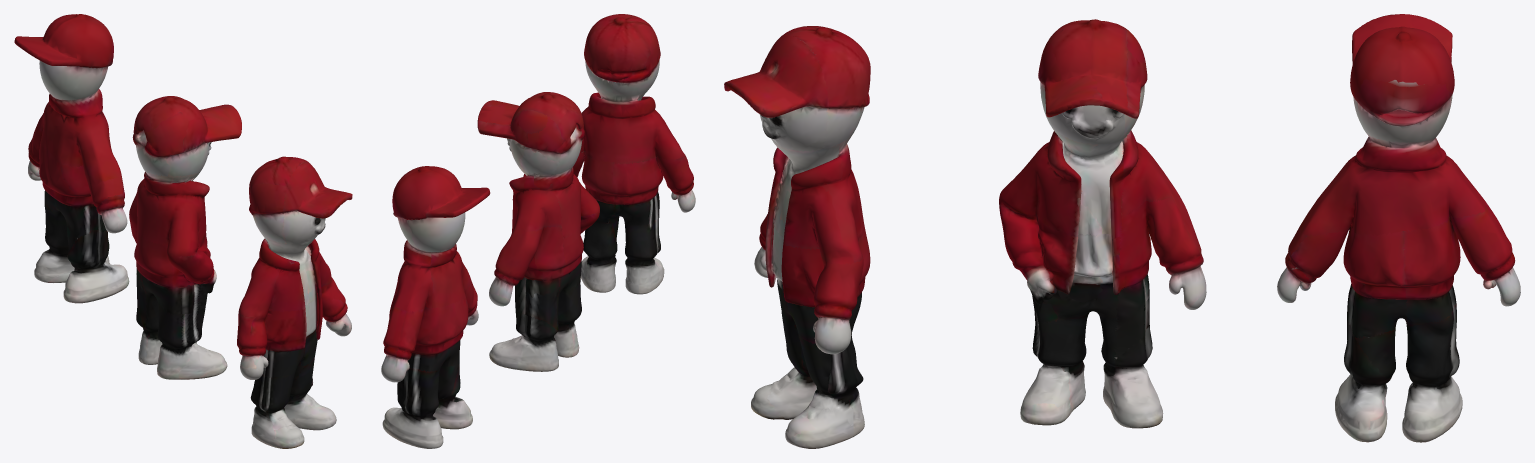
Rendered from audience-03.glb.
3 views of the same model, side by side, from view 1: azimuth 30°, elevation 25°; view 2: azimuth 150°, elevation 25°; view 3: azimuth 270°, elevation 25° (orthographic). The views are drawn at different scales.
Visible parts, largest first — view 1: tripo_node_8a8b0790-8af1-4ddb-96f0-1e316ed52873; view 2: tripo_node_8a8b0790-8af1-4ddb-96f0-1e316ed52873; view 3: tripo_node_8a8b0790-8af1-4ddb-96f0-1e316ed52873.
Part boxes in pixels (left/top/right/bottom): tripo_node_8a8b0790-8af1-4ddb-96f0-1e316ed52873: left=14, top=14, right=352, bottom=448; tripo_node_8a8b0790-8af1-4ddb-96f0-1e316ed52873: left=381, top=14, right=695, bottom=448; tripo_node_8a8b0790-8af1-4ddb-96f0-1e316ed52873: left=724, top=14, right=1520, bottom=448.
Bounding box in the file's own units: 0.8517 × 1.7 × 3.12.
Materials: 1 (1 with a texture image).
